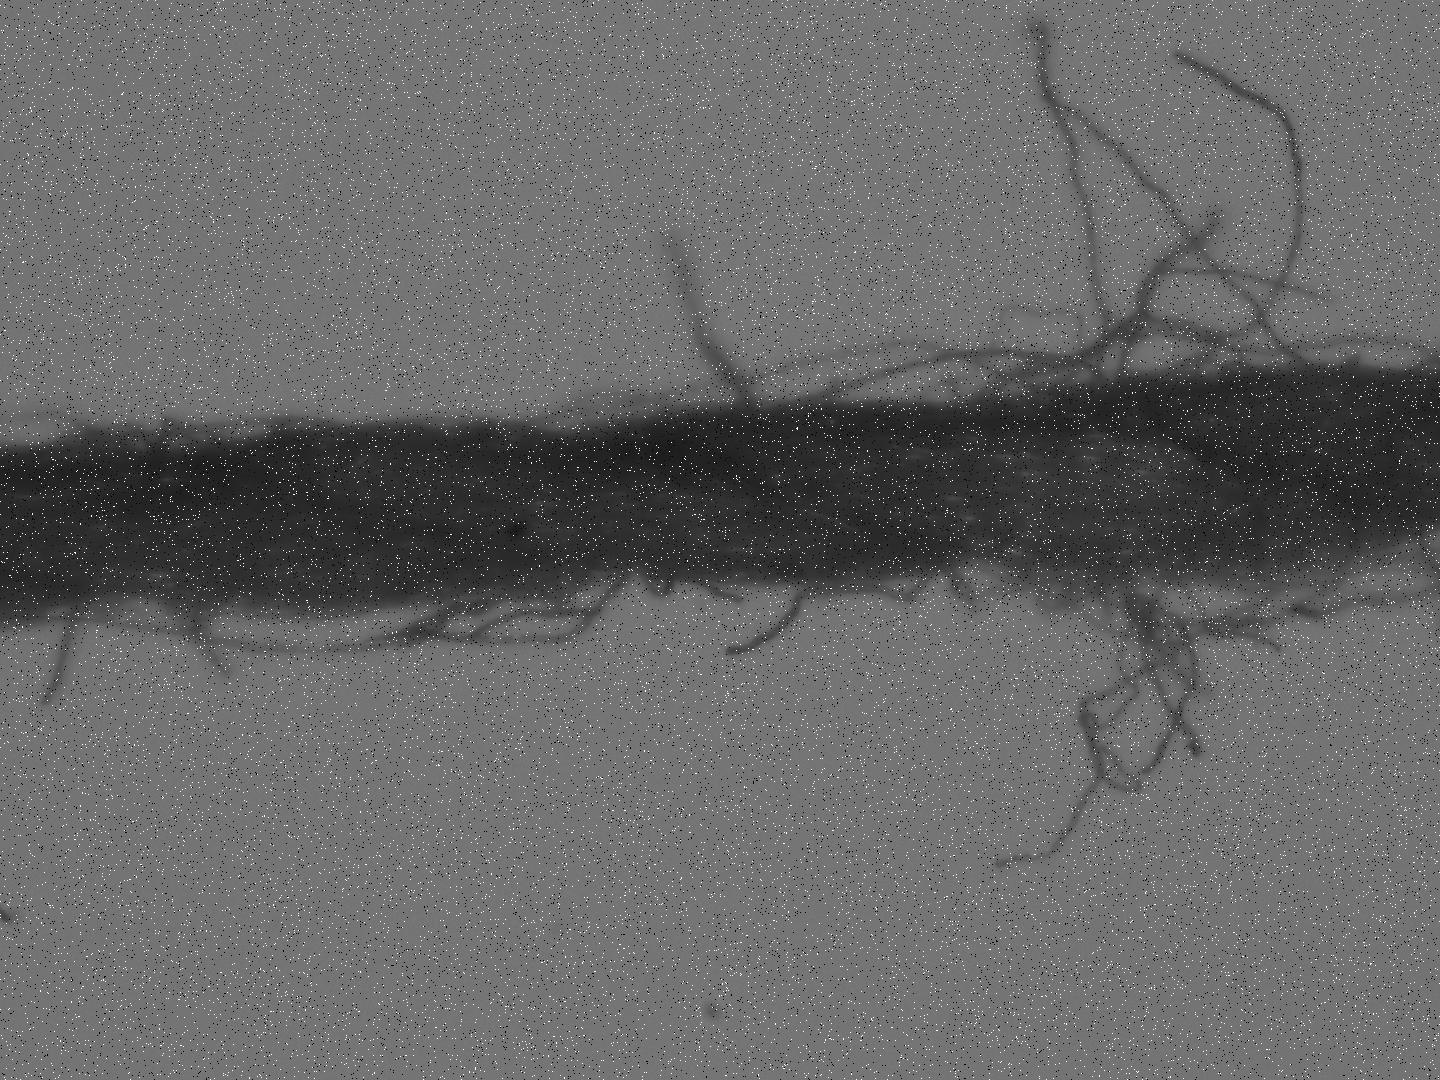loop_fiber: (943, 533, 1440, 877), (985, 19, 1312, 405), (527, 301, 1440, 432), (27, 574, 627, 657), (1, 404, 328, 455)
protruding_fiber: (1162, 48, 1308, 389), (1113, 203, 1225, 388), (721, 571, 941, 659), (668, 234, 762, 411), (1155, 267, 1350, 305), (39, 599, 86, 711), (186, 601, 243, 676)
